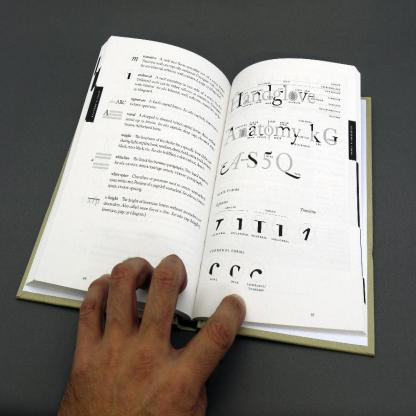book: (21, 60, 380, 370)
